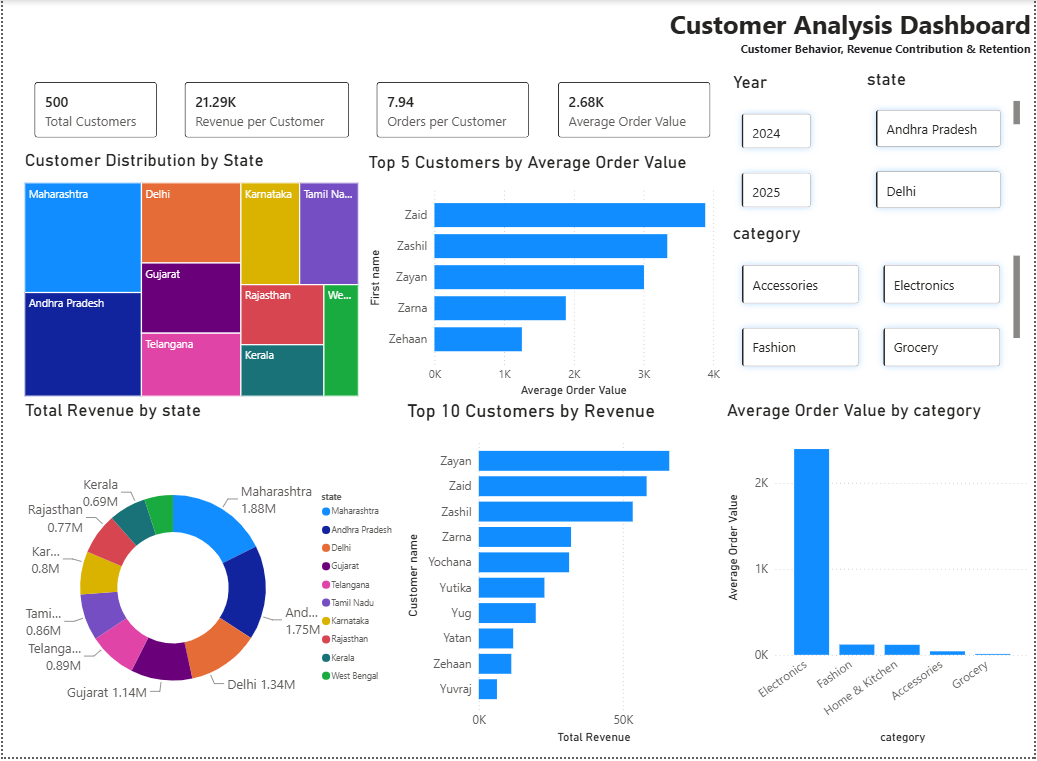

Layout of this report page (visuals, bound fields, positions):
{"tool":"powerbi","page":{"name":"Customer_A","canvas":[1280,940],"ordinal":2},"visuals":[{"type":"textbox","box":[0,0,1280,74.3],"z":0},{"type":"cardVisual","fields":{"Data":["_Measure.Total Customers"]},"box":[22,84,186.6,104],"z":1000,"group":"g1"},{"type":"advancedSlicerVisual","fields":{"Values":["novacart orders.order_date.Variation.Date Hierarchy.Year"]},"box":[900,84,118,190],"z":1000,"group":"g2"},{"type":"clusteredBarChart","title":"Top 10 Customers by Revenue","fields":{"Category":["novacart customers.First name"],"Y":["_Measure.Total Revenue"]},"box":[496,496,398,430],"z":1000},{"type":"cardVisual","fields":{"Data":["_Measure.Revenue per Customer"]},"box":[208.6,84,238.7,104],"z":2000,"group":"g1"},{"type":"advancedSlicerVisual","fields":{"Values":["novacart customers.state"]},"box":[1066,84,200,190],"z":2000,"group":"g2"},{"type":"treemap","title":"Customer Distribution by State","fields":{"Values":["_Measure.Total Customers"],"Group":["novacart customers.state"]},"box":[22,186,424,310],"z":2000},{"type":"cardVisual","fields":{"Data":["_Measure.Orders per Customer"]},"box":[447.3,84,223.4,104],"z":3000,"group":"g1"},{"type":"advancedSlicerVisual","fields":{"Values":["novacart products.category"]},"box":[900,276,366,194],"z":3000,"group":"g2"},{"type":"donutChart","fields":{"Category":["novacart customers.state"],"Y":["_Measure.Total Revenue"]},"box":[22,496,474,430],"z":3000},{"type":"group","id":"g1","title":"Group 1","box":[22,84,872,104],"z":4000},{"type":"cardVisual","fields":{"Data":["_Measure.Average Order Value"]},"box":[670.6,84,223.4,104],"z":4000,"group":"g1"},{"type":"clusteredBarChart","title":"Top 5 Customers by Average Order Value","fields":{"Category":["novacart customers.First name"],"Y":["_Measure.Average Order Value"]},"box":[448,188,446,308],"z":5000},{"type":"group","id":"g2","title":"Group 2","box":[900,84,366,386],"z":6000},{"type":"clusteredColumnChart","fields":{"Category":["novacart products.category"],"Y":["_Measure.Average Order Value"]},"box":[893.1,496.4,385.7,430],"z":7000}]}

Visuals, with their boxes in screenshot pixels (x1, y1, x2, y2), scaled from the page's 1280x940 canvas onto the 1037x761 screenshot:
textbox: l=0, t=0, r=1036, b=60
cardVisual - _Measure.Total Customers: l=18, t=68, r=169, b=152
advancedSlicerVisual - novacart orders.order_date.Variation.Date Hierarchy.Year: l=729, t=68, r=825, b=222
"Top 10 Customers by Revenue" clusteredBarChart: l=402, t=402, r=724, b=750
cardVisual - _Measure.Revenue per Customer: l=169, t=68, r=362, b=152
advancedSlicerVisual - novacart customers.state: l=864, t=68, r=1026, b=222
"Customer Distribution by State" treemap: l=18, t=151, r=361, b=402
cardVisual - _Measure.Orders per Customer: l=362, t=68, r=543, b=152
advancedSlicerVisual - novacart products.category: l=729, t=223, r=1026, b=380
donutChart - novacart customers.state x _Measure.Total Revenue: l=18, t=402, r=402, b=750
"Group 1" group: l=18, t=68, r=724, b=152
cardVisual - _Measure.Average Order Value: l=543, t=68, r=724, b=152
"Top 5 Customers by Average Order Value" clusteredBarChart: l=363, t=152, r=724, b=402
"Group 2" group: l=729, t=68, r=1026, b=380
clusteredColumnChart - novacart products.category x _Measure.Average Order Value: l=724, t=402, r=1036, b=750
